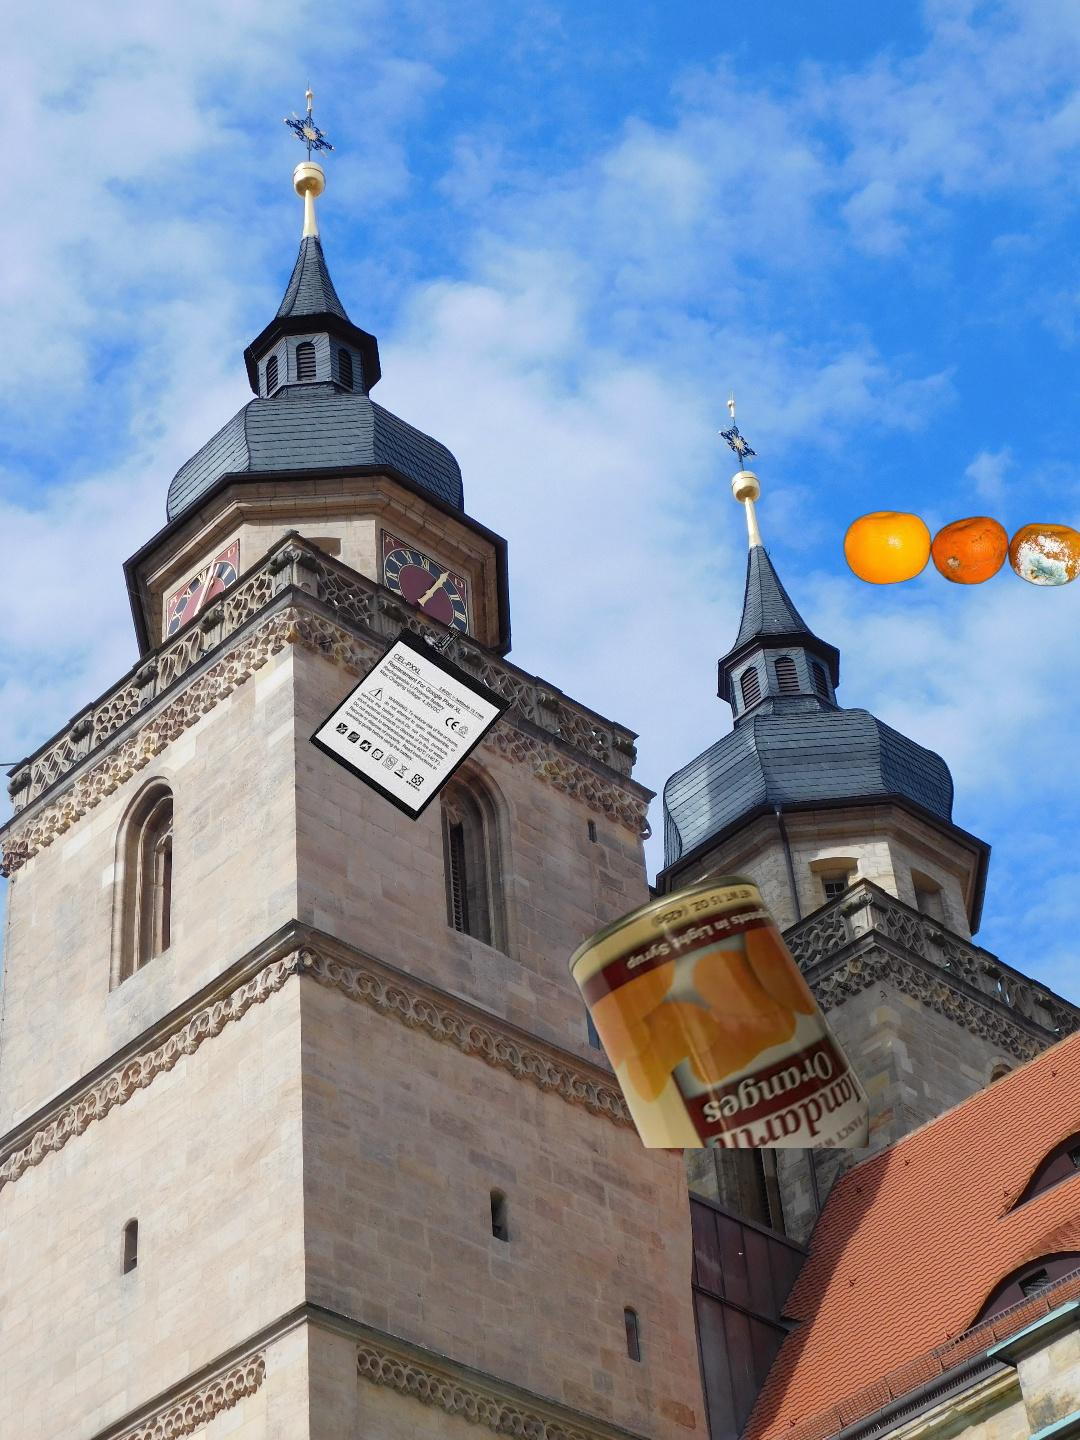battery: (305, 624, 515, 824)
biological: (842, 508, 1080, 588)
metal-cans: (563, 872, 869, 1147)
